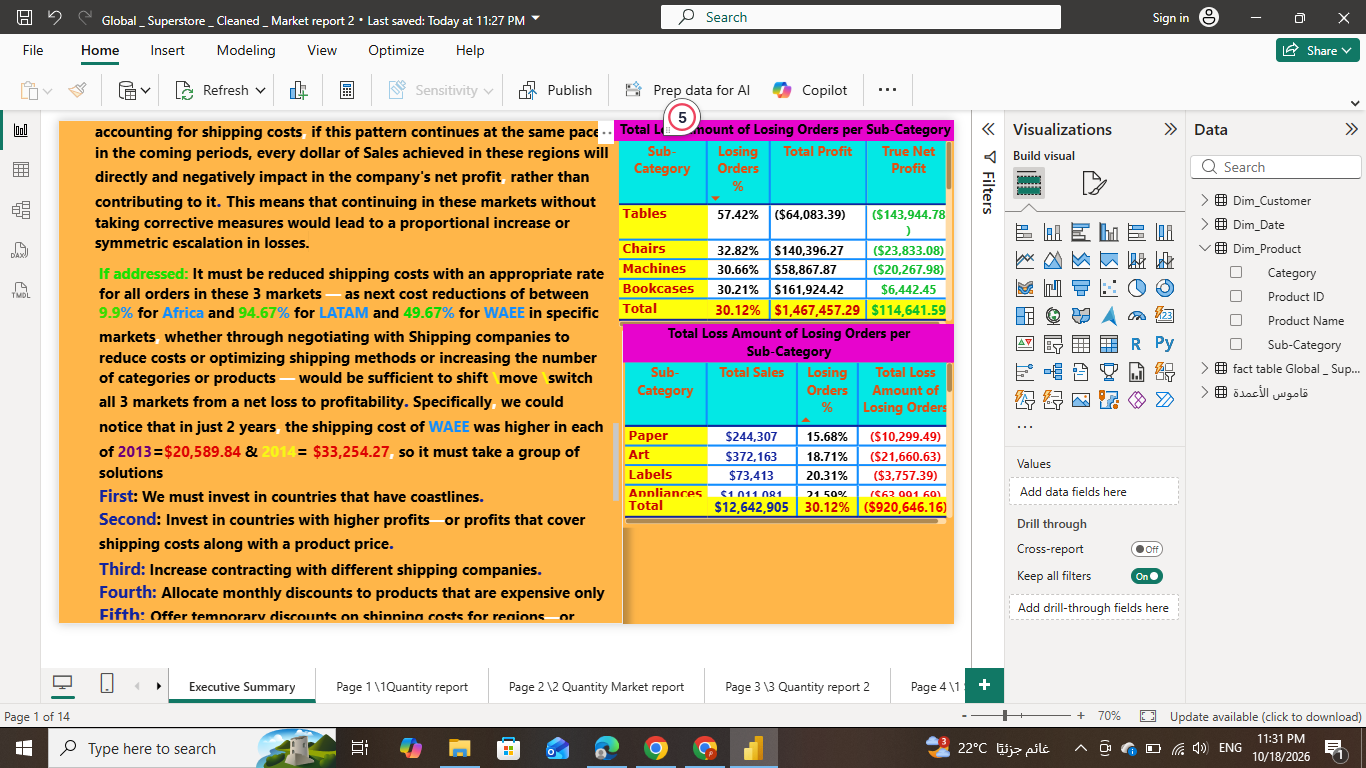

Layout of this report page (visuals, bound fields, positions):
{"tool":"powerbi","page":{"name":"Executive Summary","canvas":[1280,720],"ordinal":0},"visuals":[{"type":"textbox","box":[0,0,1279.8,552.8],"z":0}]}

Visuals, with their boxes on the page's 1280x720 design canvas (x1, y1, x2, y2). These are canvas units, not pixel positions in the 1366x768 screenshot, which may show the page scaled, cropped or inside an application window:
textbox: pyautogui.locateOnScreen(0, 0, 1280, 553)
